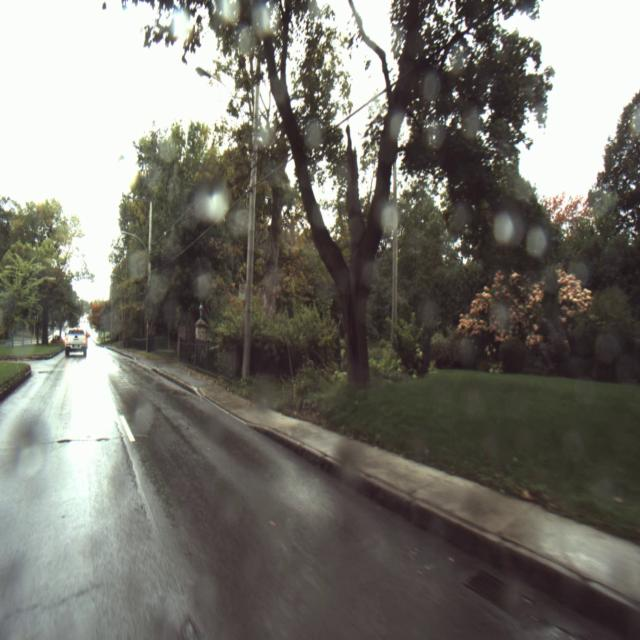car: (65, 328, 88, 359)
